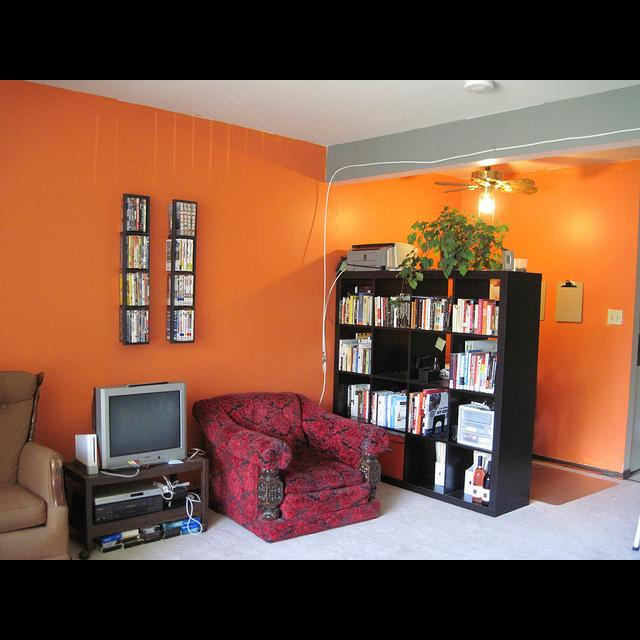Flat-Panel-TV: (95, 380, 188, 471)
